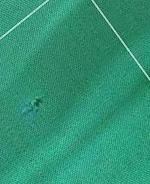knot: (27, 94, 45, 113)
